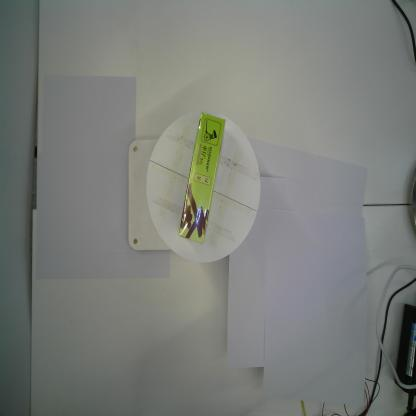Instant Drink: (178, 110, 226, 245)
